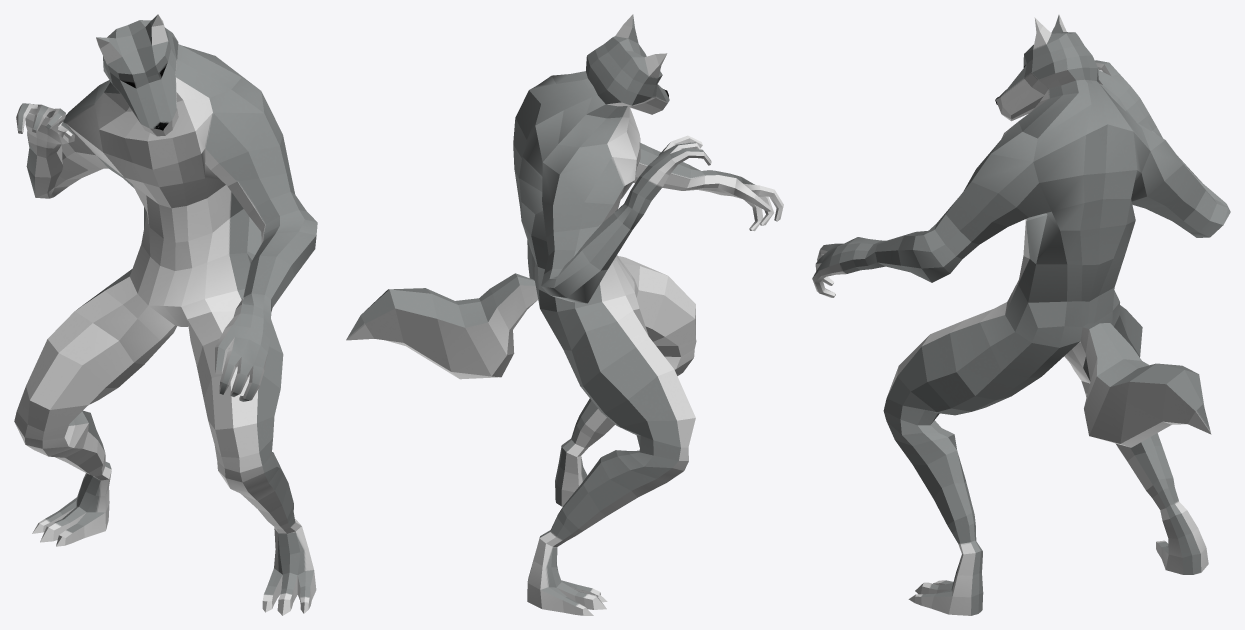
The model's file is WolfDead(3).obj.
3 views of the same model, side by side, from view 1: azimuth 30°, elevation 25°; view 2: azimuth 150°, elevation 25°; view 3: azimuth 270°, elevation 25° (orthographic). The views are drawn at different scales.
Visible parts, largest first — view 1: Box001; view 2: Box001; view 3: Box001.
Part boxes in pixels (left/top/right/bottom): Box001: left=14, top=14, right=317, bottom=615; Box001: left=346, top=14, right=783, bottom=615; Box001: left=812, top=14, right=1230, bottom=615.
Bounding box in the file's own units: 83.75 × 140 × 97.66.
